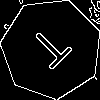T: (26, 23, 81, 78)
